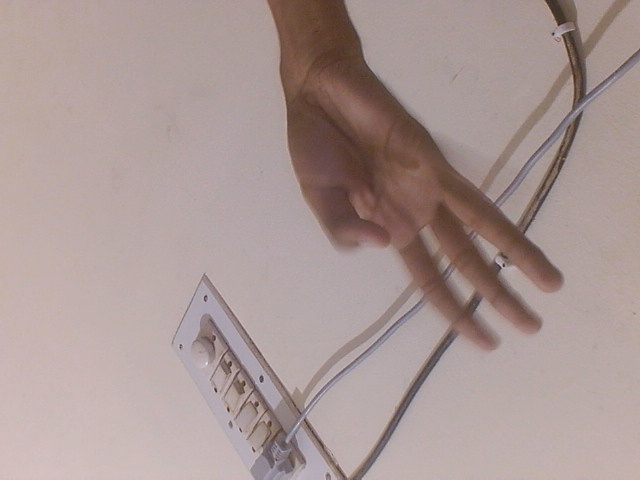hand: (274, 45, 570, 356)
